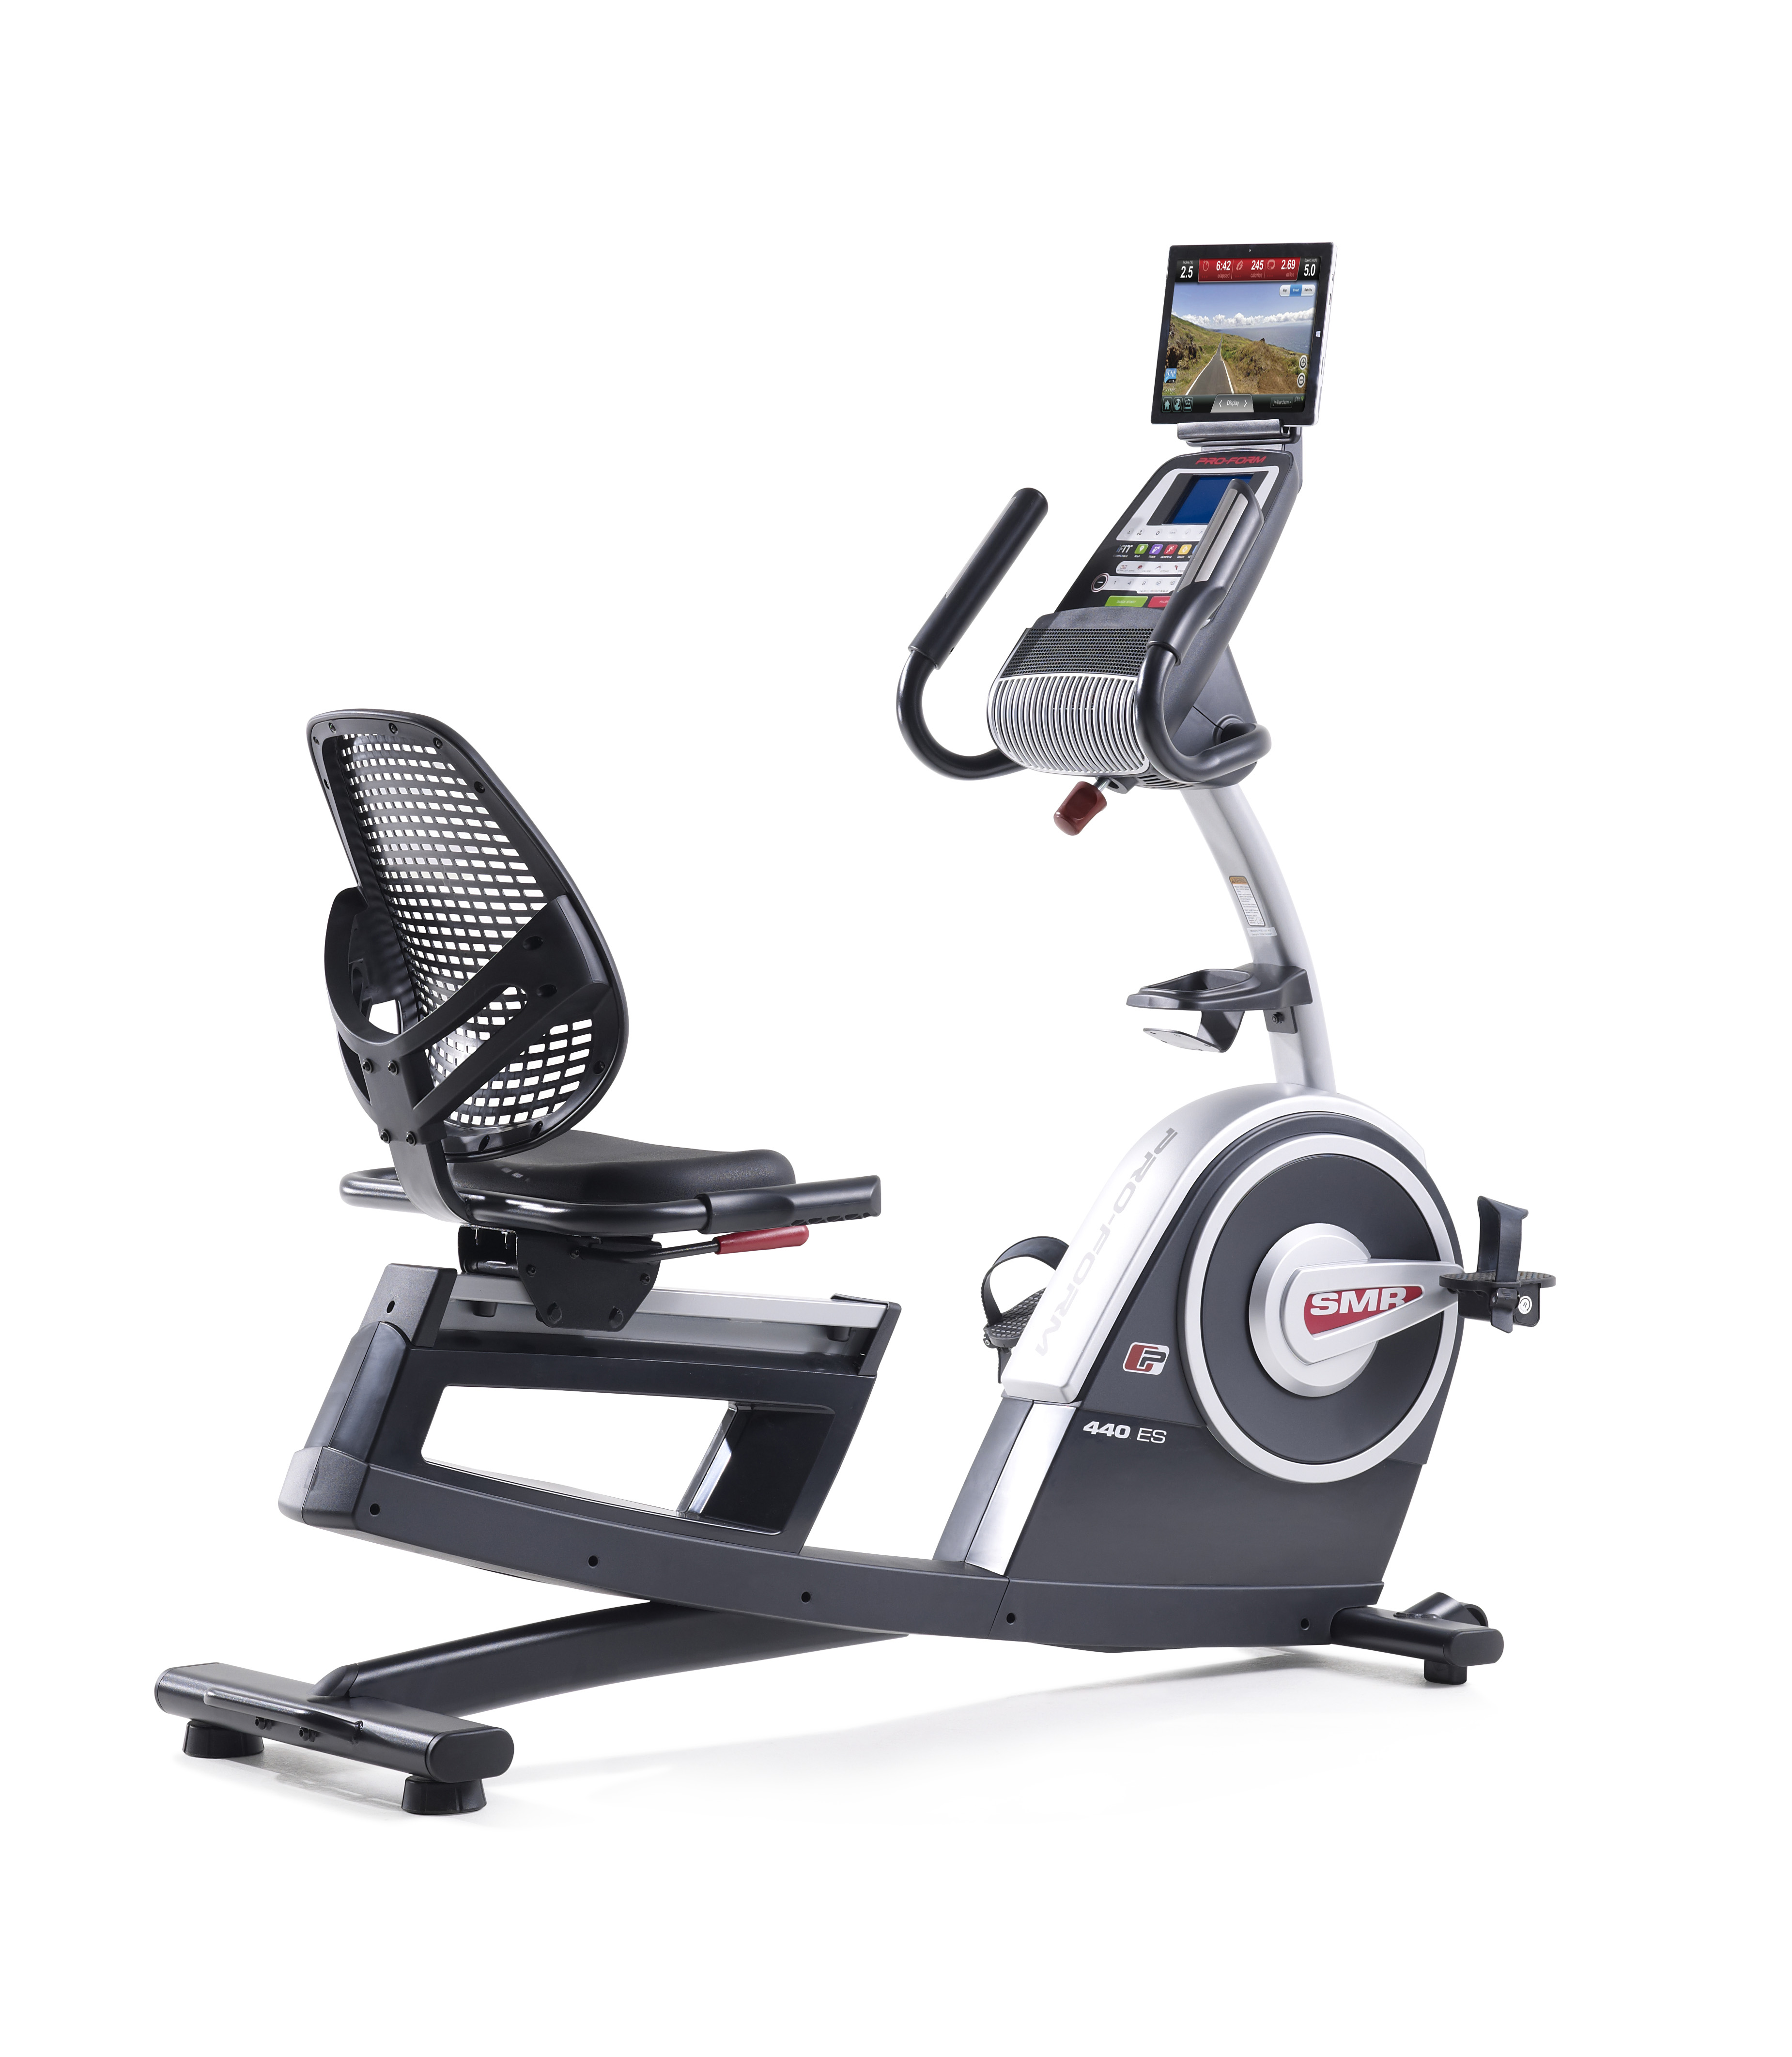gym_bike: (140, 192, 1533, 1859)
